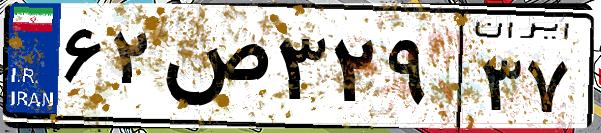2: (330, 28, 385, 110), (110, 28, 158, 98)
3: (270, 28, 330, 110), (475, 38, 525, 113)
6: (57, 26, 110, 100)
7: (525, 38, 570, 115)
9: (385, 28, 445, 110)
ص: (158, 20, 270, 120)
